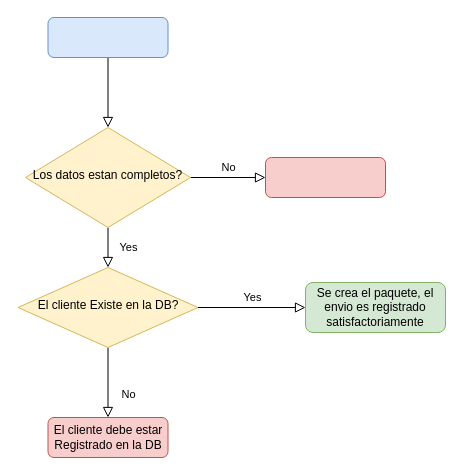
Some shapes in this 463 by 475 pixel diagram are drawn without their labels. Each missing label, with the centre of its shape:
Falta llenar Datos: the point at 325,177
Recibe Datos para crear un envio: the point at 107,37
